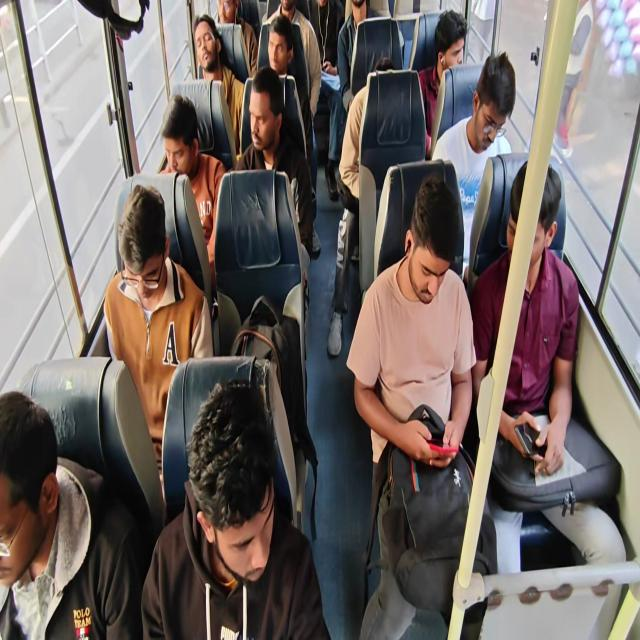person: (369, 213, 504, 404), (186, 401, 274, 621), (0, 409, 81, 640), (503, 164, 593, 338), (109, 205, 189, 362), (481, 76, 540, 178), (155, 105, 206, 208), (188, 12, 242, 109), (428, 20, 488, 104), (251, 70, 289, 182), (262, 31, 311, 93), (272, 0, 314, 64), (312, 0, 346, 72), (214, 1, 256, 49), (375, 35, 395, 94), (344, 0, 379, 33)
